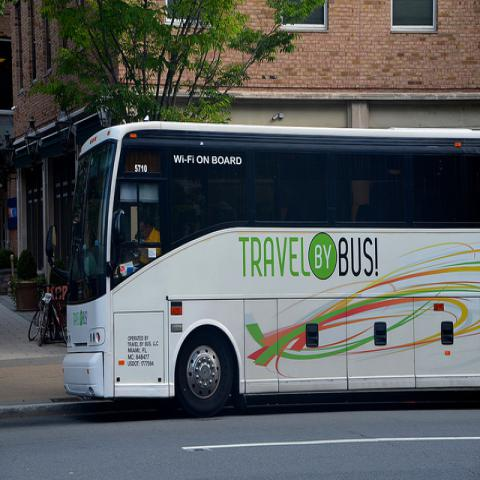bus: (57, 119, 479, 413)
